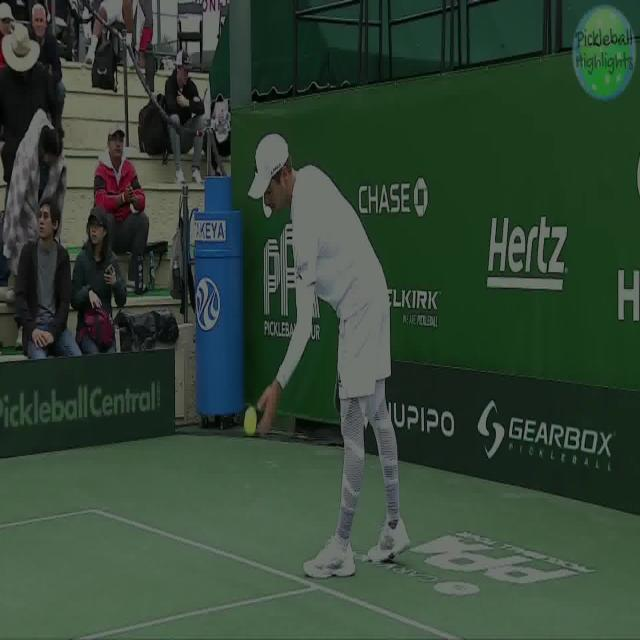ball: (242, 399, 258, 439)
